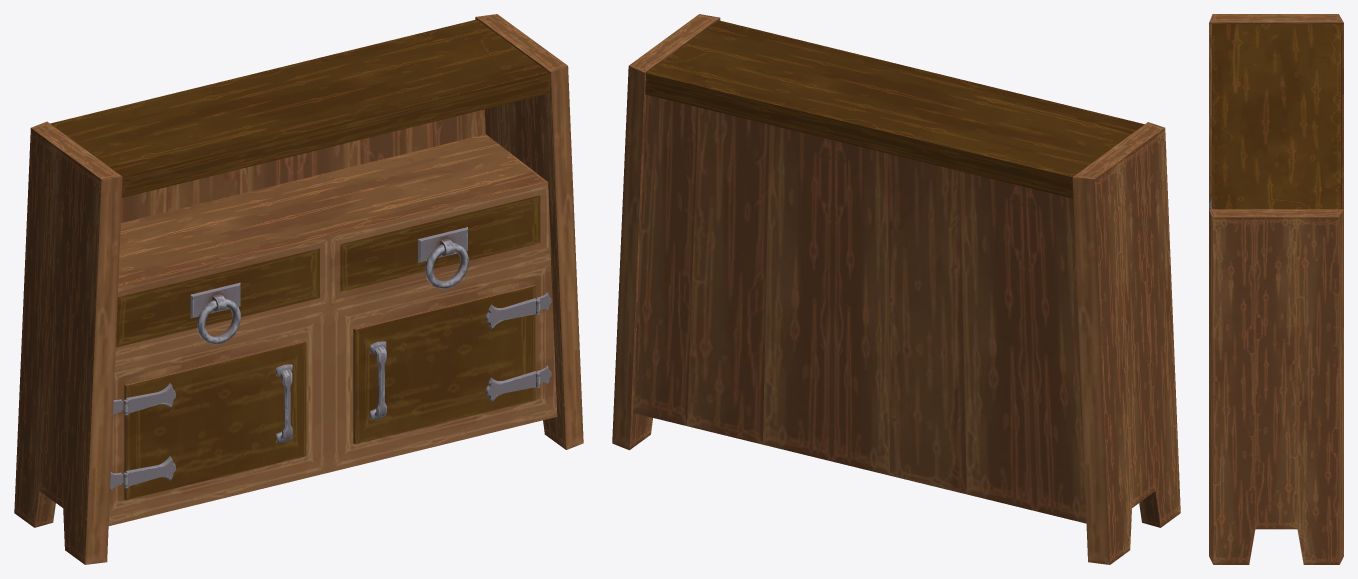
Rendered from prop_cabinet.glb.
3 renders of one model, left to right at view 1: azimuth 30°, elevation 25°; view 2: azimuth 150°, elevation 25°; view 3: azimuth 270°, elevation 25°, orthographic. The views are drawn at different scales.
Visible parts, largest first — view 1: Cabinet; view 2: Cabinet; view 3: Cabinet.
Boxes of the visible parts, x1=… form: Cabinet: x1=14, y1=14, x2=583, y2=564; Cabinet: x1=612, y1=14, x2=1180, y2=564; Cabinet: x1=1209, y1=14, x2=1343, y2=564.
Size of the model in its own units: 1.36 by 0.9974 by 0.3571.
2 materials, 2 textured.
